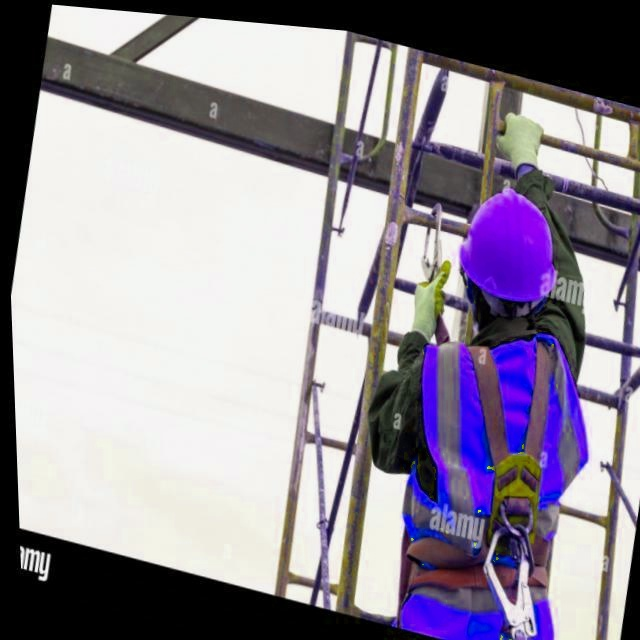safety belt: (399, 329, 592, 607)
